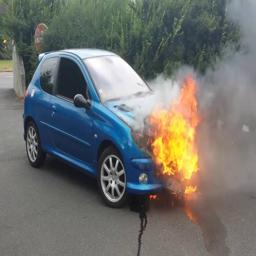fire: (148, 77, 201, 226)
